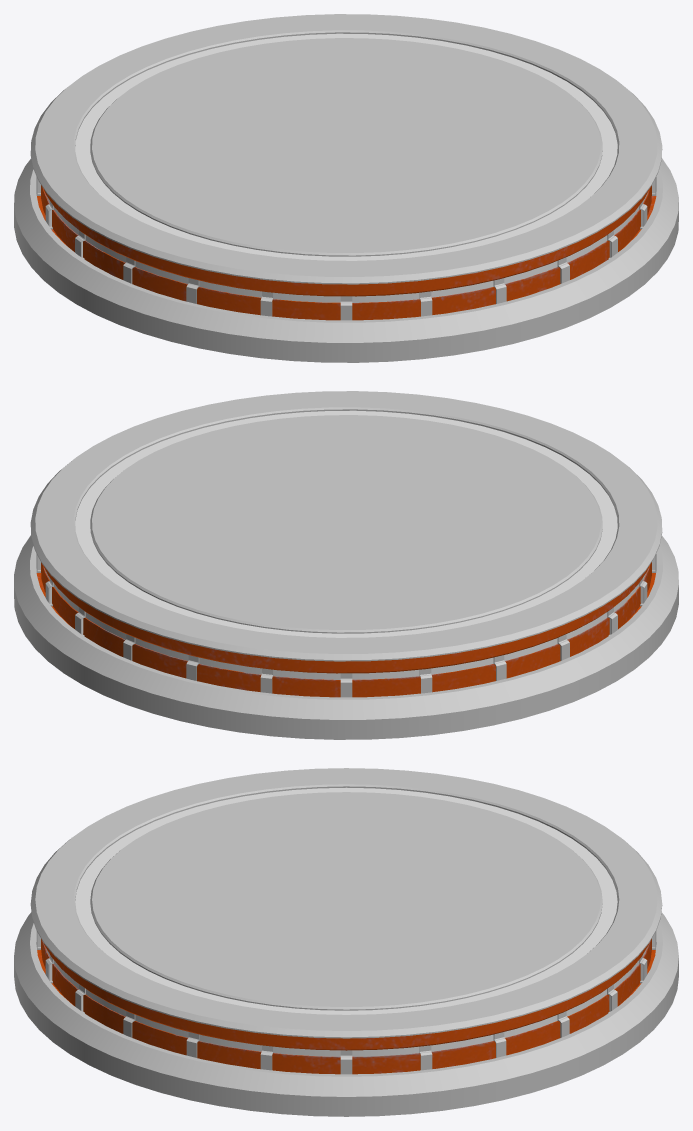
The model's file is PlatformLab.fbx.
3 views of the same model, one above another, from view 1: azimuth 30°, elevation 25°; view 2: azimuth 150°, elevation 25°; view 3: azimuth 270°, elevation 25° (orthographic).
Visible parts, largest first — view 1: Up, Down; view 2: Up, Down; view 3: Up, Down.
Part boxes in pixels (x1,y1,x2,y2): Up: [30, 14, 662, 320]; Down: [14, 158, 678, 362]; Up: [30, 391, 662, 697]; Down: [14, 535, 678, 739]; Up: [30, 768, 662, 1074]; Down: [14, 912, 678, 1116].
Size of the model in its own units: 200 by 25.46 by 200.
